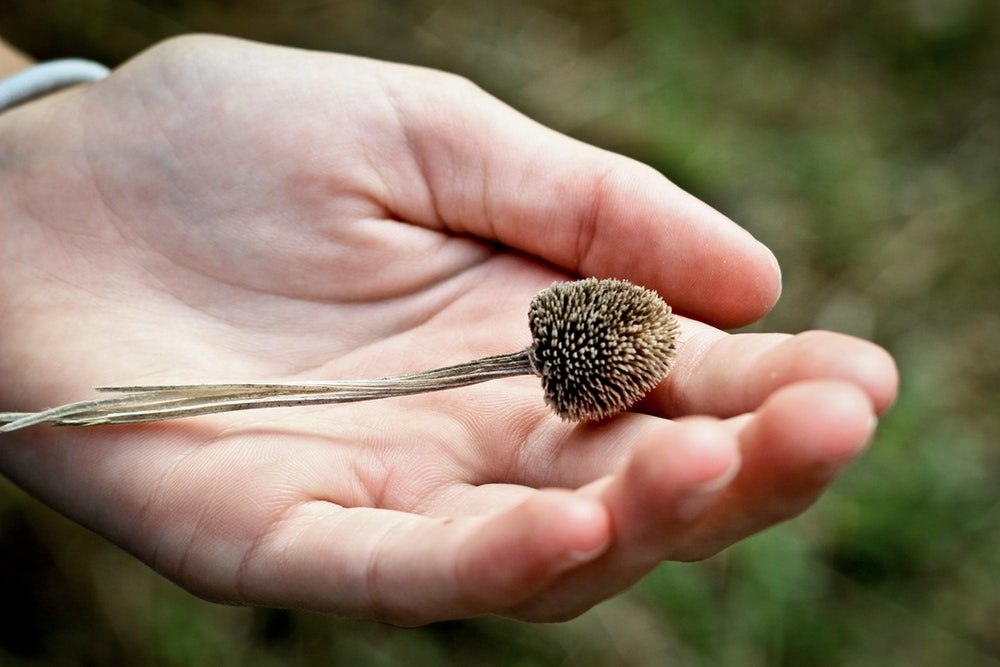palm: (15, 117, 569, 495)
